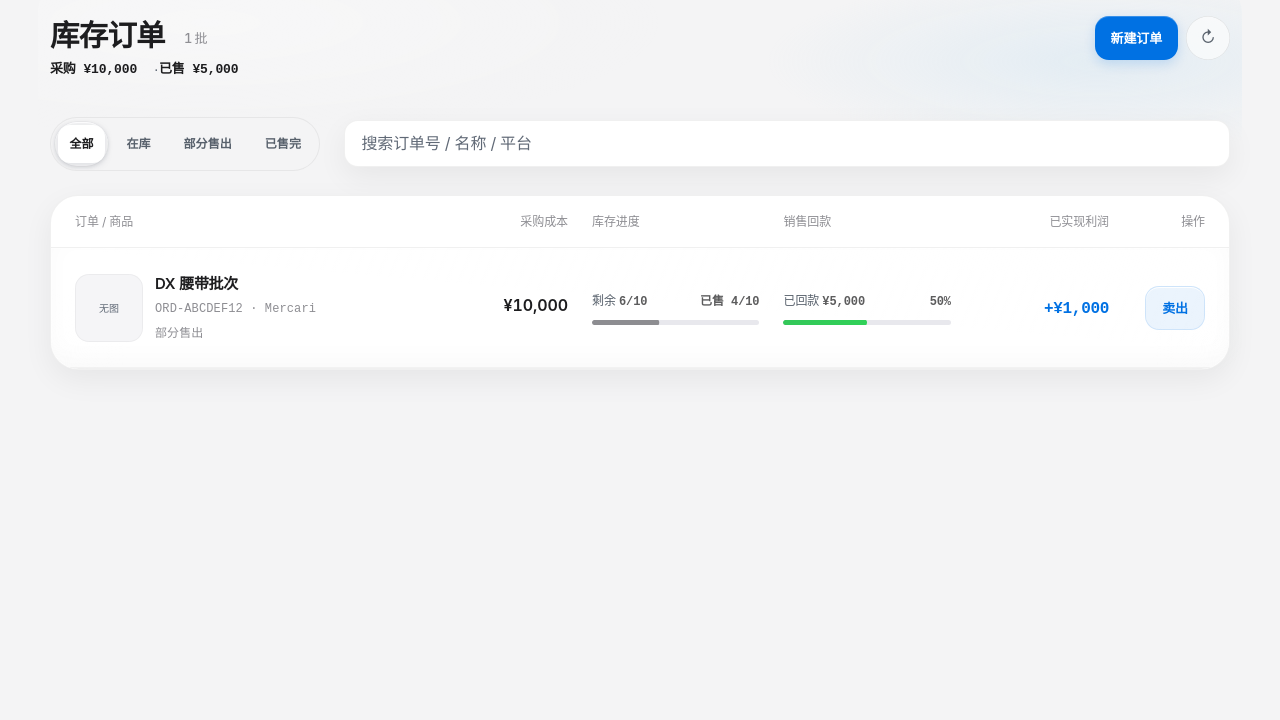
Scenario: InventoryOrdersWorkspace › opens the unified registration form instead of a standalone create sheet
Step 1. Click the button "新建订单" → point(1136, 38), box [1094,16,1178,60]
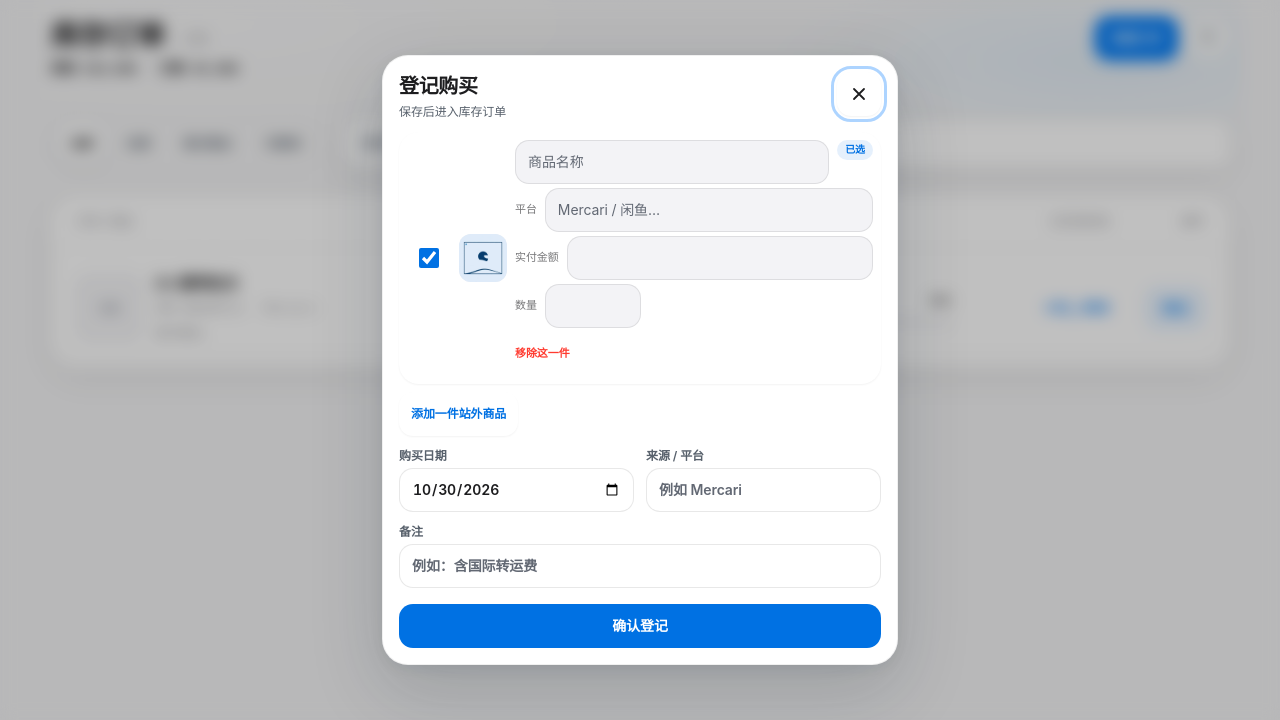
Expected: the element with id "shell-overlay-root" shows "登记购买", [399,74,478,98]
Expected: the field with test id "purchase-registration-offcatalog-title" is shown, [515,140,829,184]
Expected: the number field with test id "purchase-registration-amount" is shown, [567,236,873,280]
